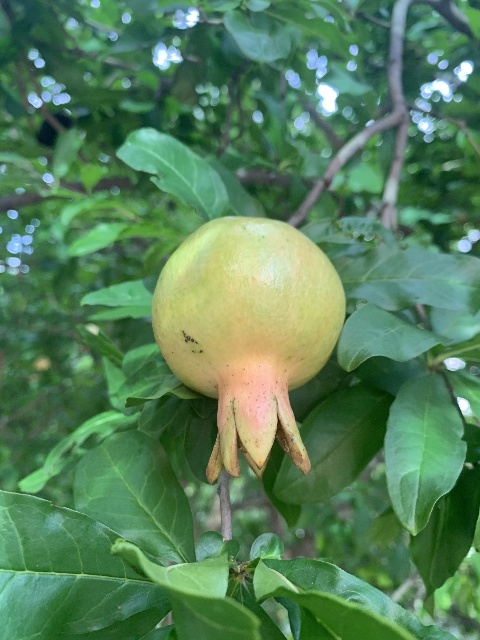mid-growth: (150, 214, 346, 484)
